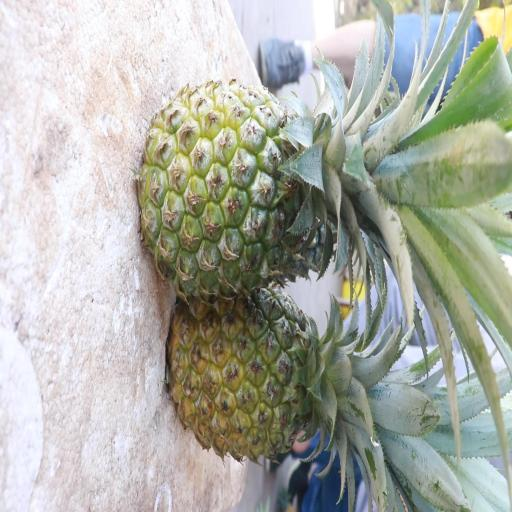------------------------------: (145, 76, 357, 284)
Pineapple - v8 v1: (169, 288, 374, 462)
